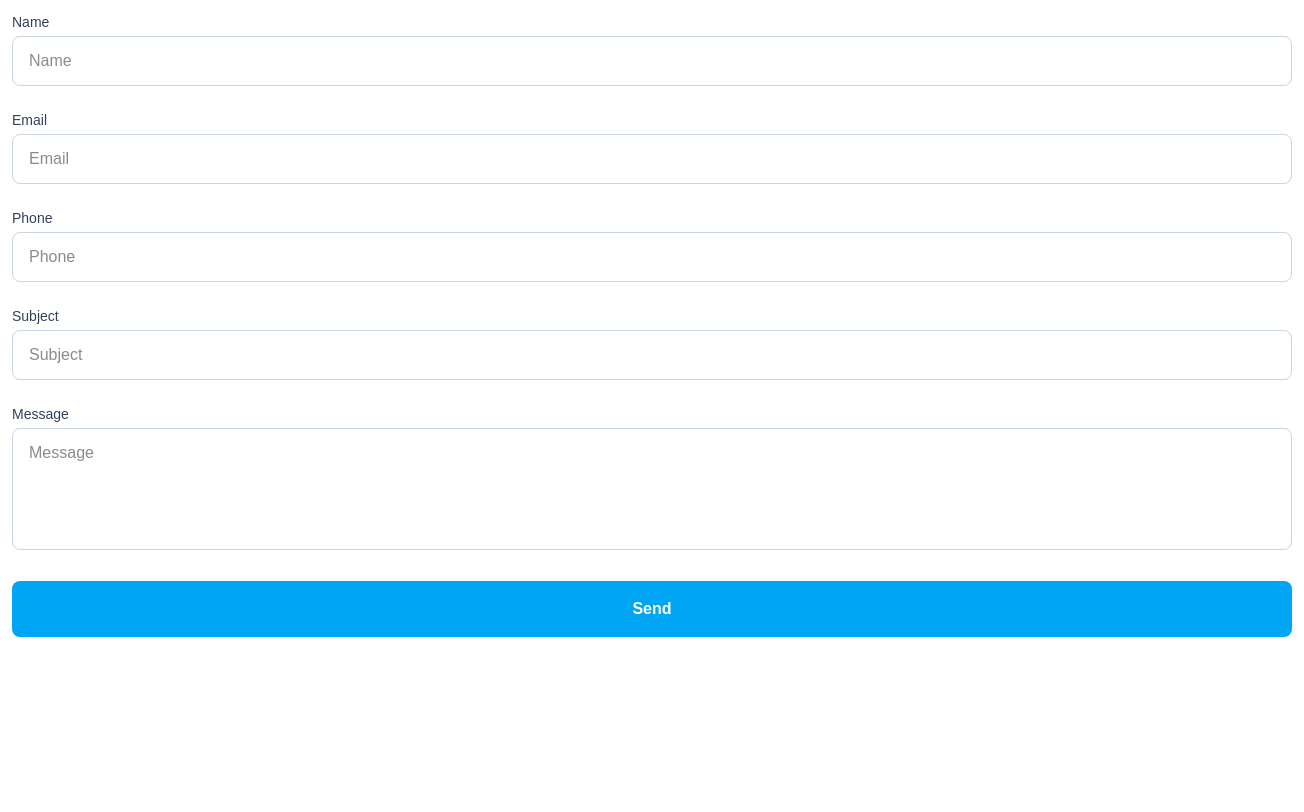
Test: ContactForm › should show error message on failed submission
Type "John Doe" into the field labelled "Name" at (652, 61), box x1=12 y1=36 x2=1292 y2=86
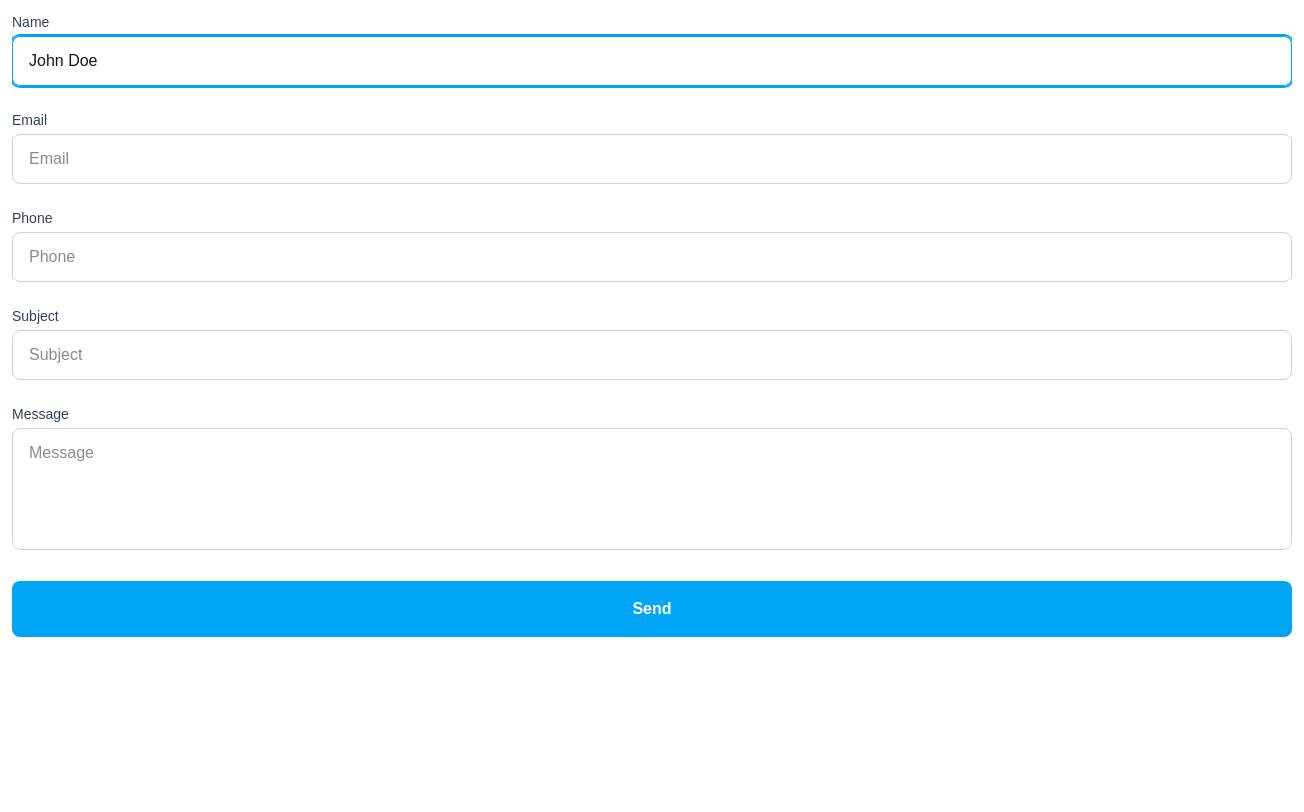
Type "john@example.com" into the field labelled "Email" at (652, 159), box x1=12 y1=134 x2=1292 y2=184
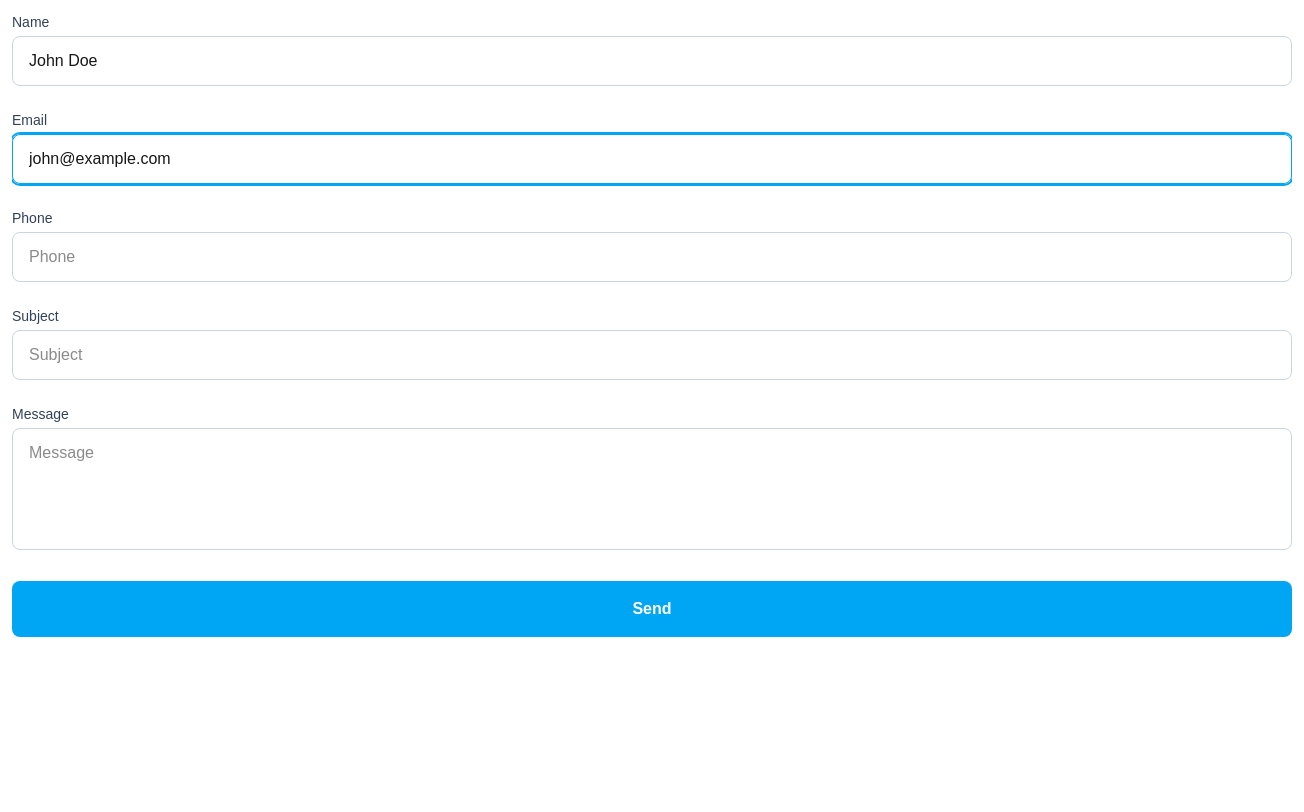
Type "This is a test message" into the text box labelled "Message" at (652, 489), box x1=12 y1=428 x2=1292 y2=550
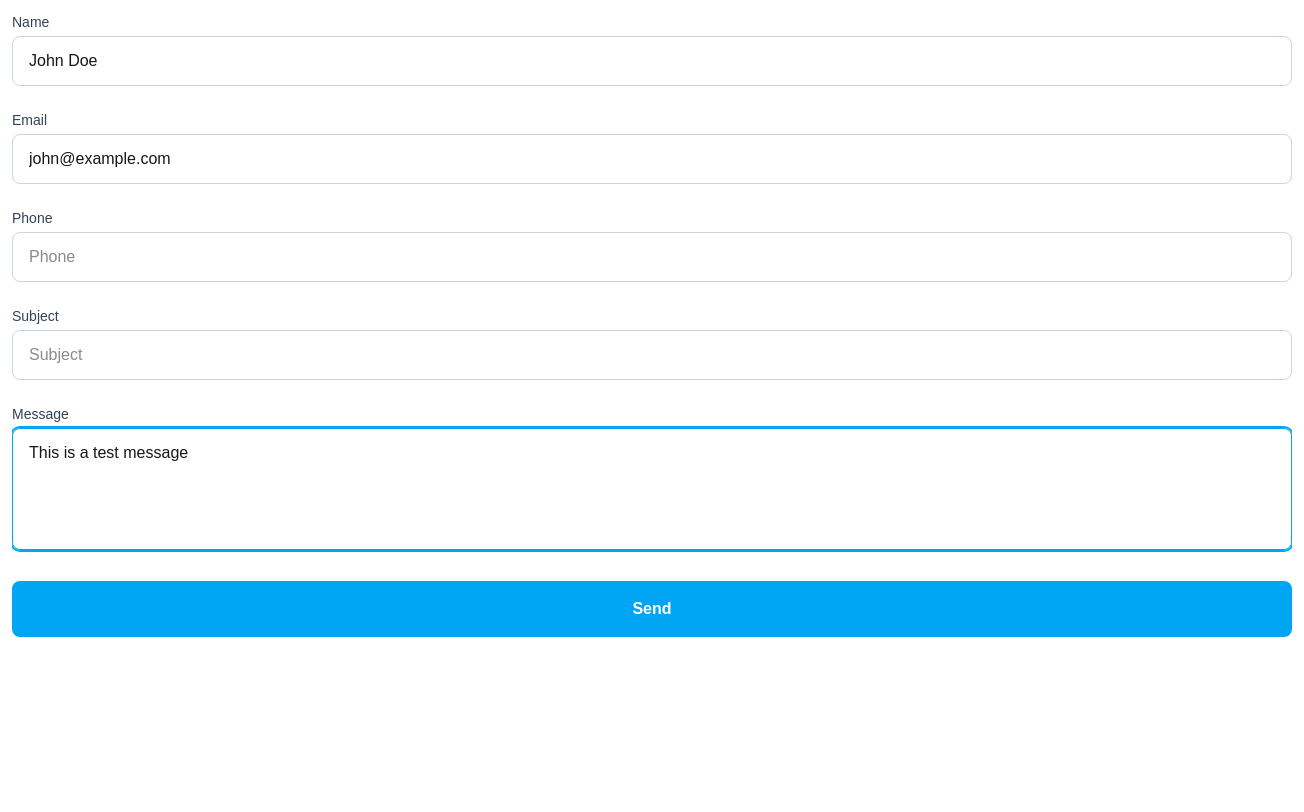
Click the button "Send" at (652, 609), box x1=12 y1=581 x2=1292 y2=637
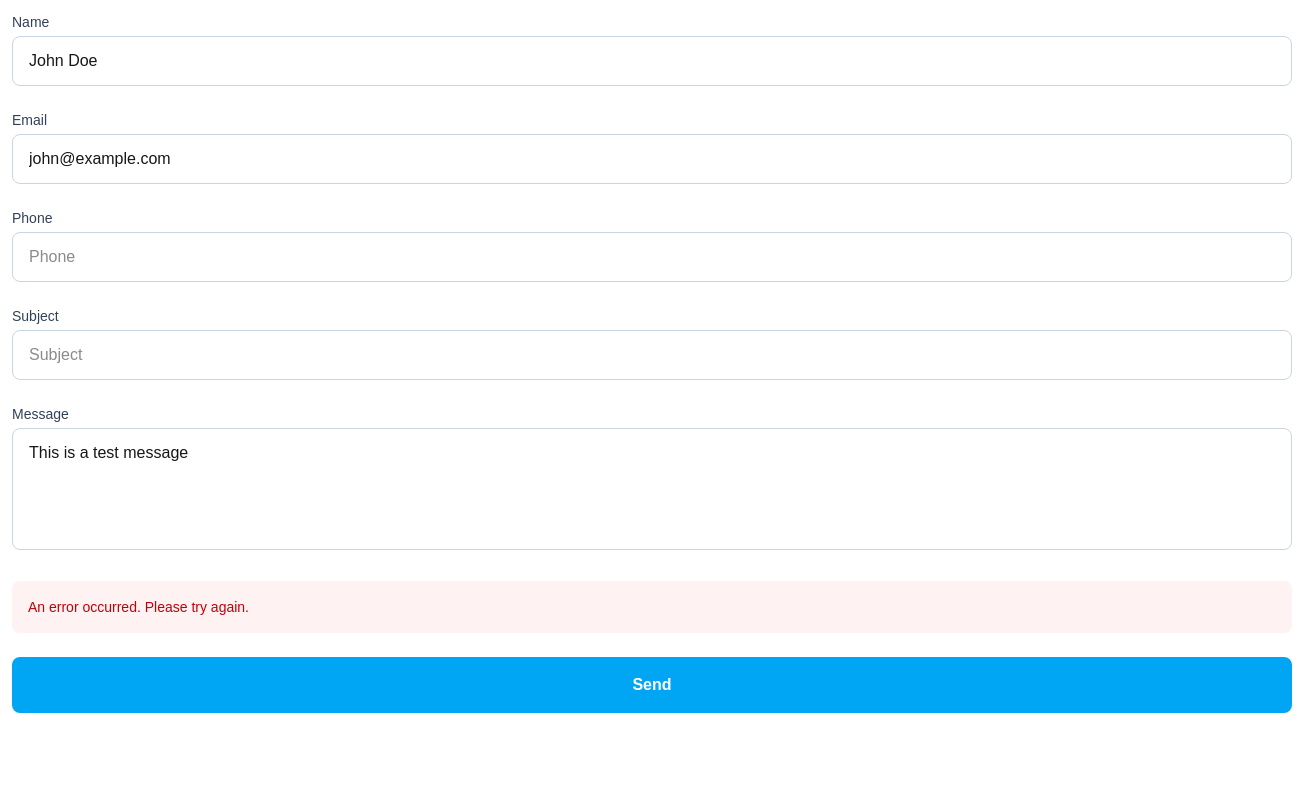
Check: the text "An error occurred. Please try again." is shown, box x1=12 y1=581 x2=1292 y2=633
